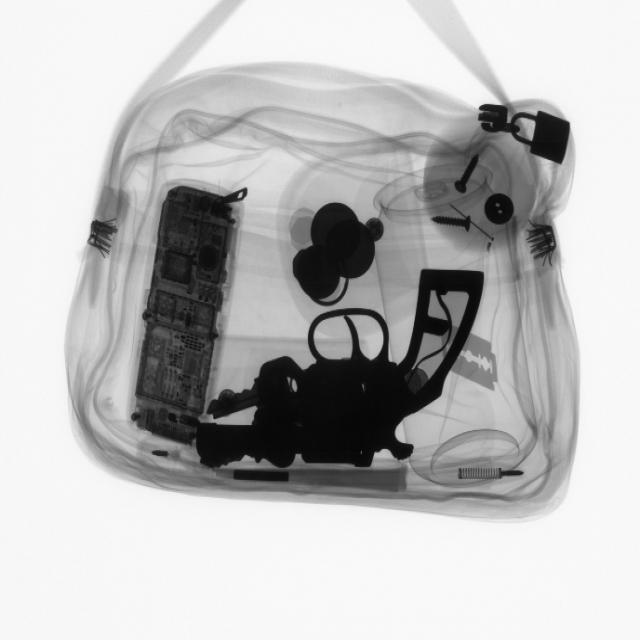BLADE: (437, 329, 499, 392)
GUN: (195, 257, 483, 470)
SCREW: (447, 143, 492, 201), (426, 204, 482, 243)
